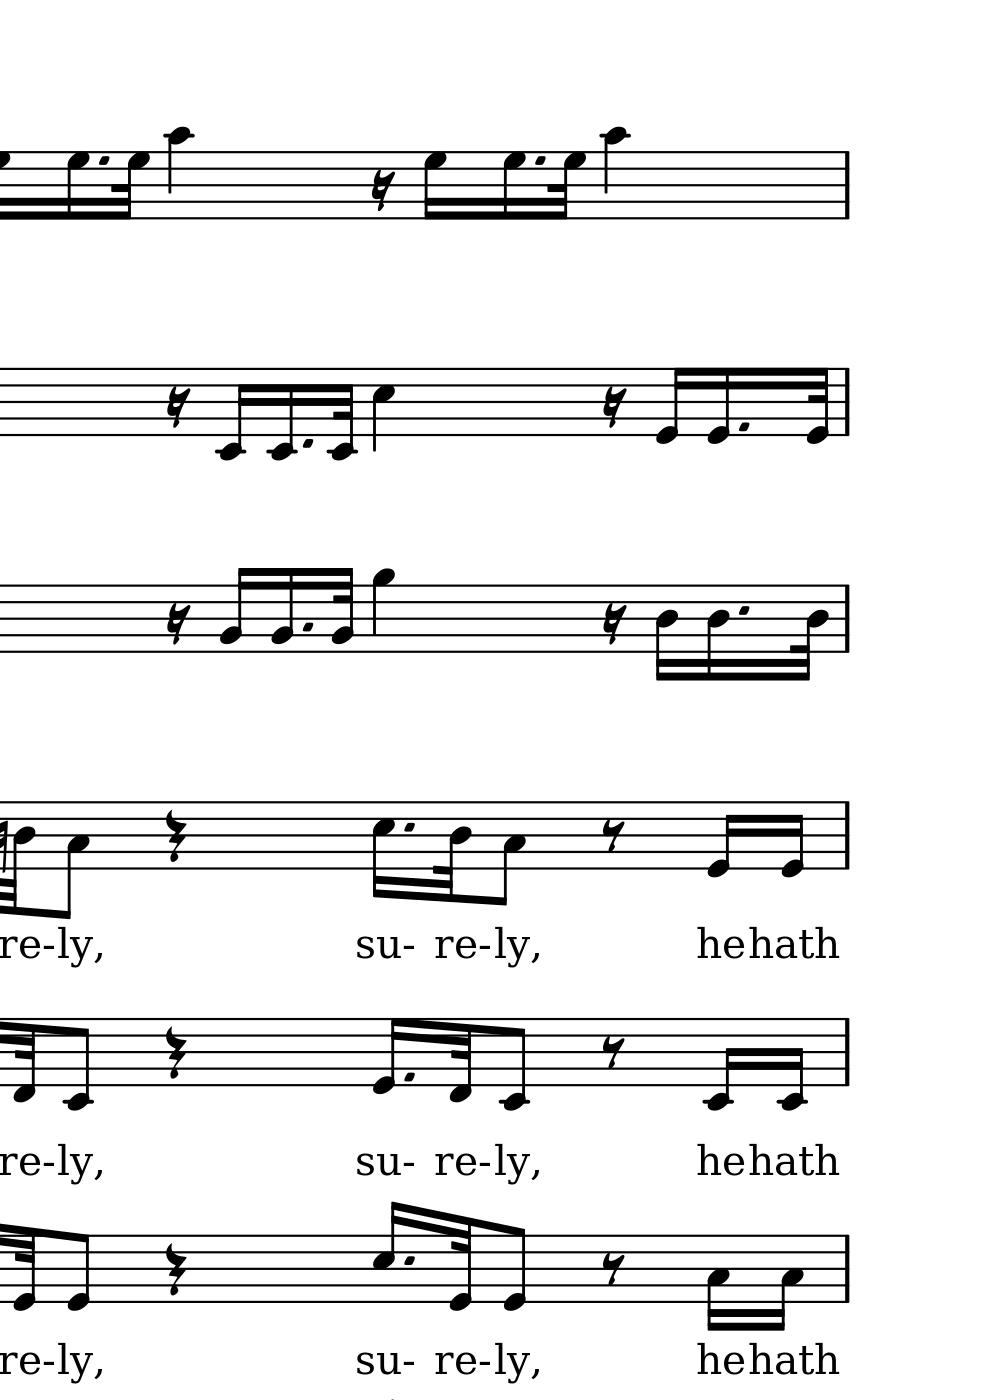16_-2: (703, 1014, 740, 1117), (215, 366, 252, 462), (264, 365, 296, 462), (778, 1013, 807, 1116)
16_0: (367, 1013, 403, 1100), (704, 800, 739, 880), (656, 365, 689, 446), (703, 363, 733, 445), (778, 801, 806, 880)
16_2: (217, 564, 252, 654), (269, 564, 296, 653)
16_3: (769, 1231, 805, 1333), (705, 1233, 731, 1333)
16_4: (704, 582, 730, 684), (652, 583, 678, 684)
16_5: (371, 1200, 405, 1306), (370, 800, 396, 902)
16_7: (500, 147, 527, 225), (64, 147, 91, 224), (421, 148, 447, 225)
32_-1: (448, 1014, 474, 1108), (12, 1015, 37, 1107)
32_-2: (327, 364, 357, 464)
32_0: (446, 1210, 475, 1318), (11, 1226, 37, 1313), (806, 363, 832, 447)
32_2: (329, 566, 355, 654)
32_4: (790, 582, 830, 684), (435, 797, 472, 905), (3, 800, 35, 915)
32_7: (112, 150, 151, 223), (549, 150, 587, 223)
4_10: (601, 125, 630, 222), (165, 125, 193, 222)
4_5: (370, 367, 396, 455)
4_9: (370, 564, 396, 656)
8_-2: (500, 1019, 530, 1111), (64, 1018, 93, 1111)
8_0: (501, 1223, 528, 1314), (65, 1232, 92, 1314)
8_3: (57, 800, 90, 918), (494, 798, 526, 908)
Rests16: (601, 601, 628, 647), (601, 385, 628, 430), (165, 385, 191, 431), (369, 169, 395, 213), (165, 601, 191, 646)
Rests4: (163, 1241, 187, 1298), (164, 808, 186, 865), (164, 1025, 186, 1081)
Rests8: (599, 1034, 626, 1069), (599, 1251, 626, 1286), (599, 818, 626, 853)
Single_barline: (836, 151, 857, 219), (837, 585, 857, 653), (837, 1234, 857, 1303), (837, 368, 857, 436), (838, 803, 856, 870), (837, 1021, 855, 1086)
dot: (298, 615, 314, 634), (734, 603, 752, 619), (400, 819, 416, 836), (300, 436, 315, 452), (401, 1253, 416, 1268), (735, 420, 751, 434), (96, 153, 111, 167)
